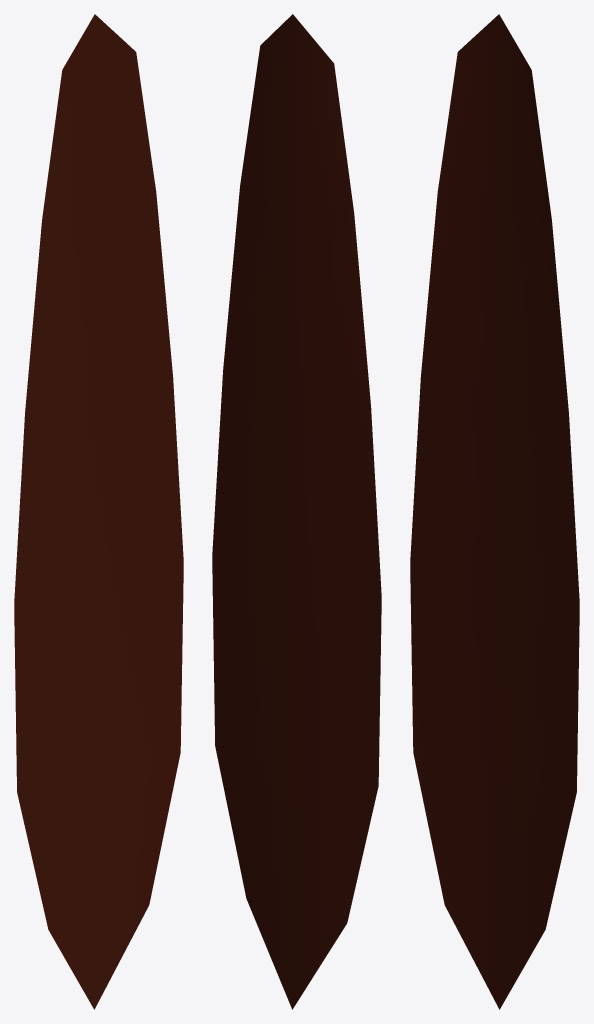
File: pheasant_feather_flight_secondary_023.obj
3 renders of one model, left to right at view 1: azimuth 30°, elevation 25°; view 2: azimuth 150°, elevation 25°; view 3: azimuth 330°, elevation 25°, orthographic.
Parts seen in each view (by area): view 1: feather_flight_secondary_023; view 2: feather_flight_secondary_023; view 3: feather_flight_secondary_023.
Boxes of the visible parts, x1,y1,x2,y2 form: feather_flight_secondary_023: (14, 14, 183, 1009); feather_flight_secondary_023: (212, 14, 381, 1009); feather_flight_secondary_023: (410, 14, 579, 1009).
Size of the model in its own units: 0.0141 by 0.0791 by 0.000697.
